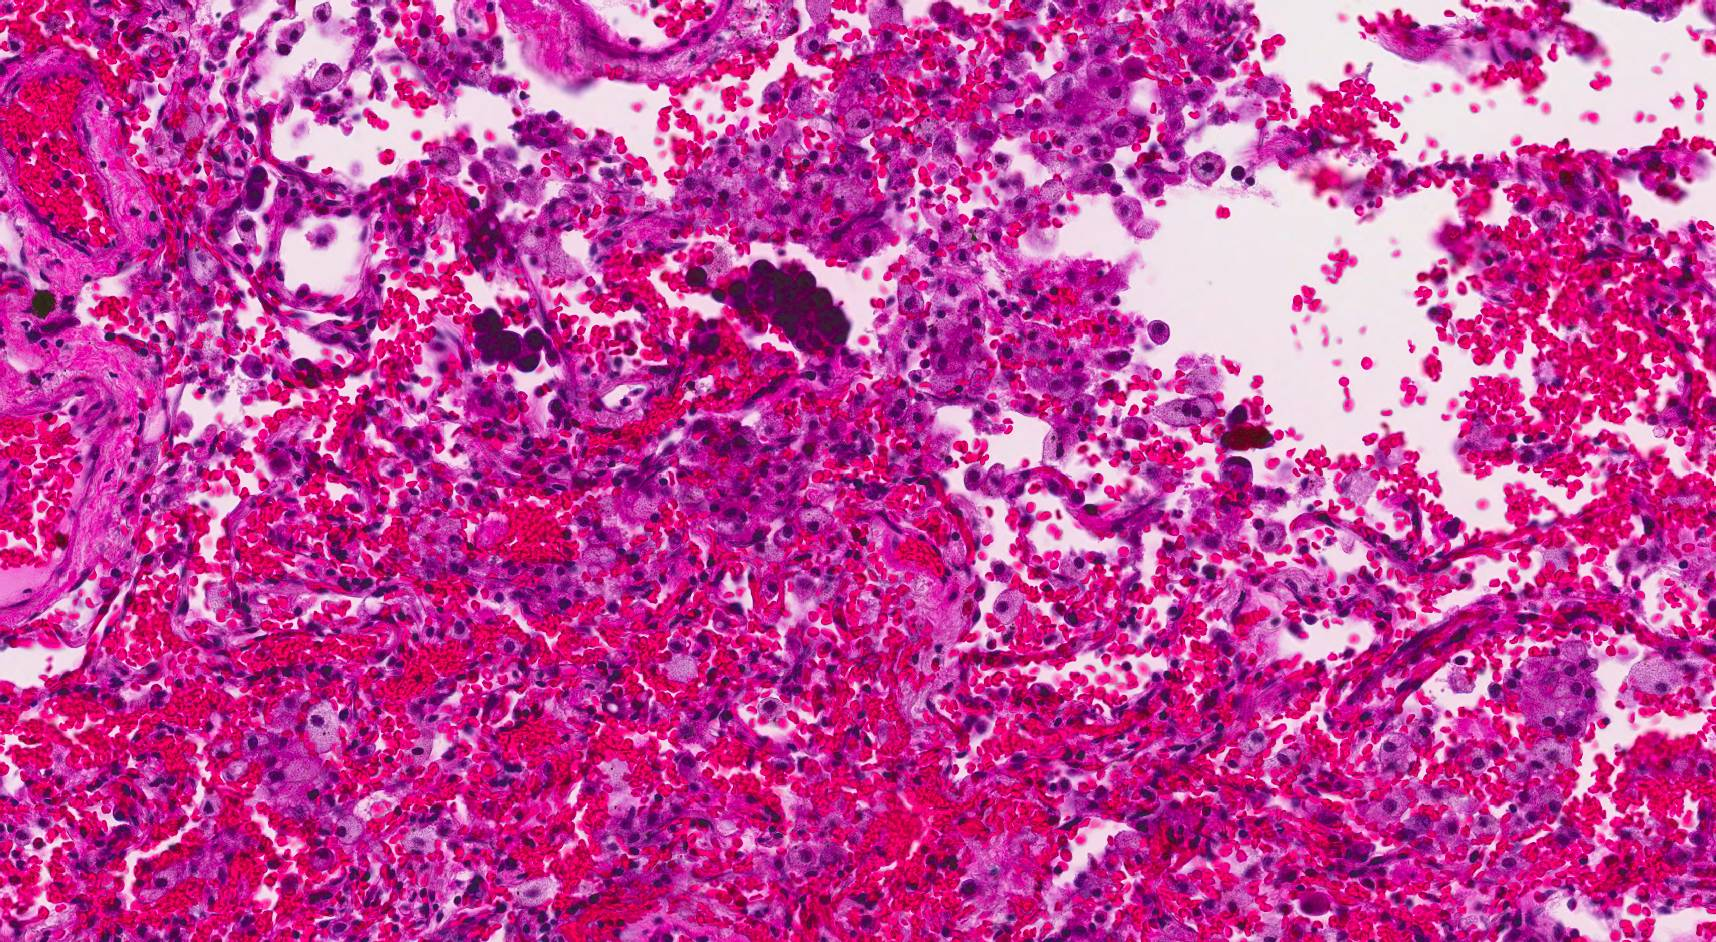stas: (730, 254, 852, 351), (471, 306, 547, 378)
